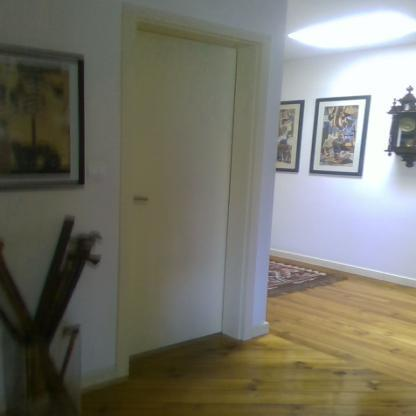door: (134, 29, 228, 364)
lever: (132, 196, 152, 203)
